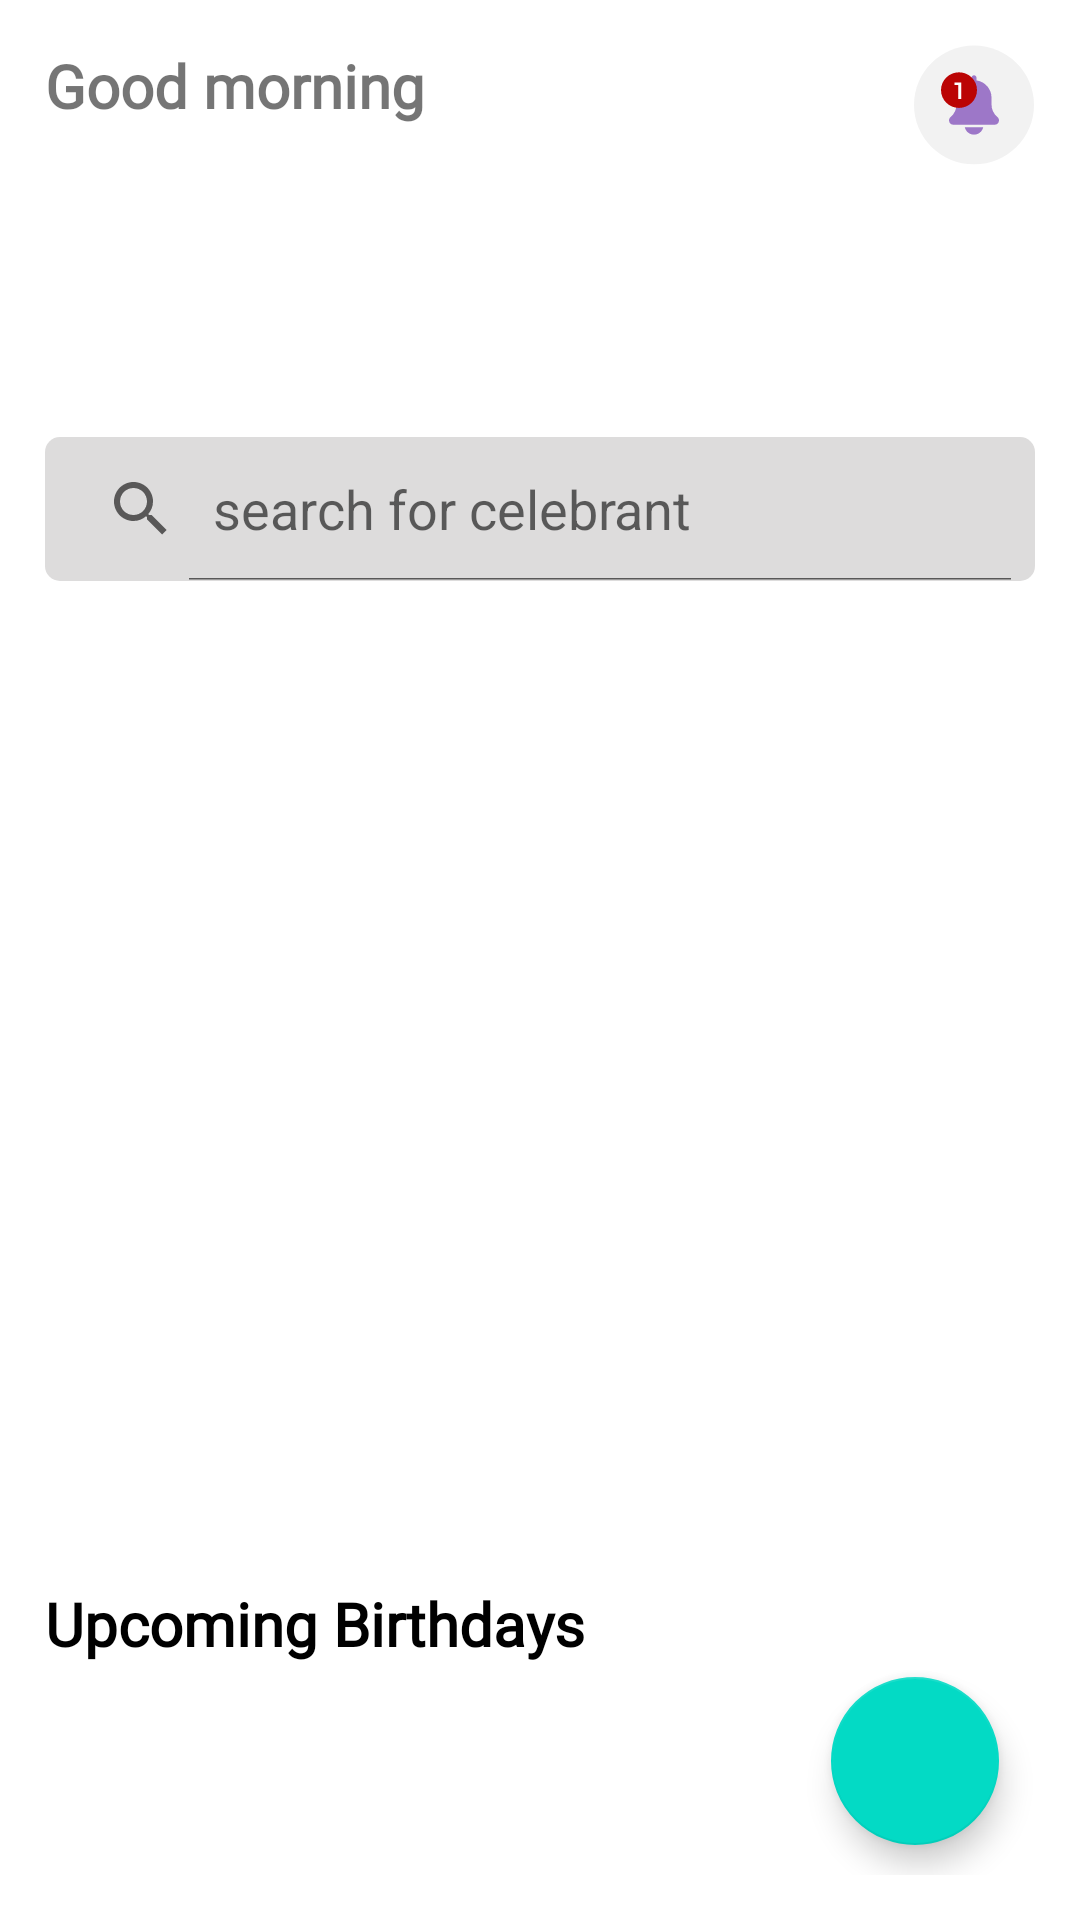

Locate icon controls on the screen. Image size 1080px x 1920px, boxes as [x1, y1, x2, y2].
notification: [941, 72, 999, 135]
